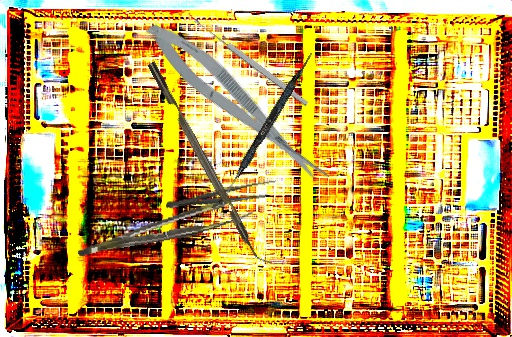Chopper: (147, 56, 274, 271)
Dressing Forceps: (164, 177, 279, 216)
Micro Scissor: (137, 10, 336, 199)
Spatula Surgical: (217, 49, 315, 207)
Surgical Spoon: (192, 16, 310, 108)
Tissue Forceps: (73, 196, 258, 257)
